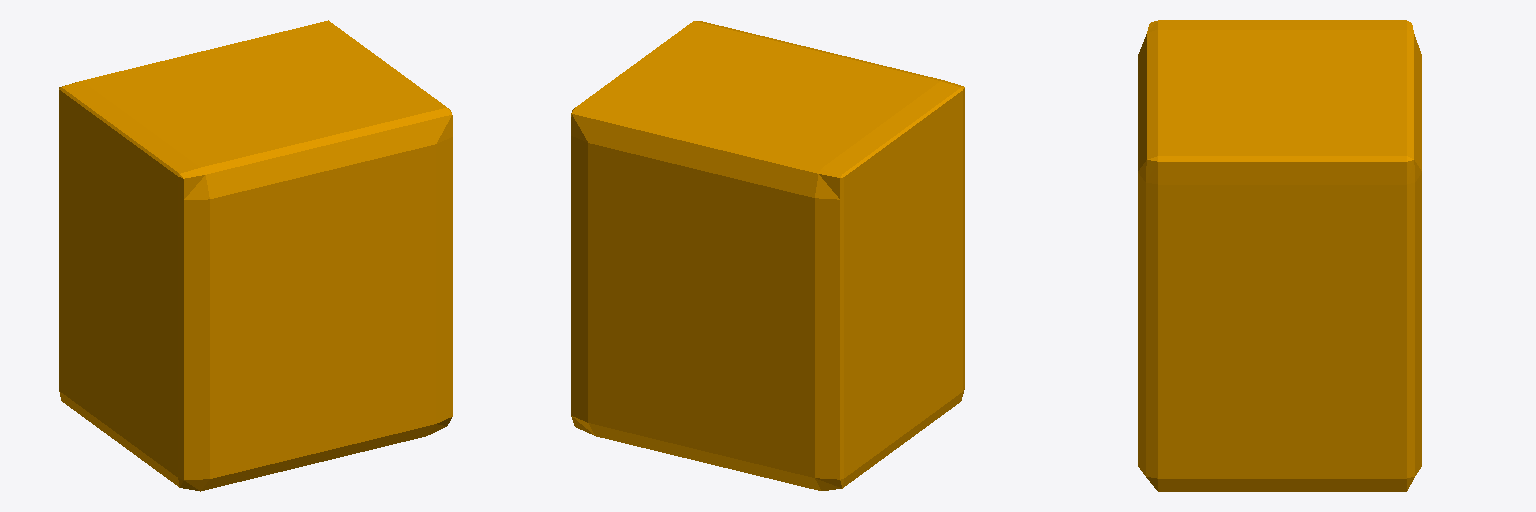
URDF robot description (cylinder_box_179):
<?xml version="1.0" encoding="utf-8"?>  <robot name="cylinder_box_179">   <link name="cylinder_box_179">     <visual>       <geometry>         <mesh filename="../meshes/box/box_179.stl" scale="1 1 1"/>       </geometry>     </visual>     <collision>       <geometry>         <mesh filename="../meshes/box/box_179.stl" scale="1 1 1"/>       </geometry>     </collision>     <inertial>        <origin         xyz="0 0 0"         rpy="0 0 0" />       <mass value="0.2804552188084841"/>       <origin rpy="0 0 0" xyz="0 0 0"/>       <inertia ixx="0.00020441342816512794" ixy="1.6532040127471677e-08" ixz="2.9288900794293976e-08" iyy="0.00023186104068791125" iyz="3.571837436176359e-08" izz="0.00017560084158696135"/>     </inertial>   </link>  </robot>

--- Render facts (derived) ---
The picture shows the robot from 3 angles, left to right: view 1: azimuth 30°, elevation 25°; view 2: azimuth 150°, elevation 25°; view 3: azimuth 270°, elevation 25°; orthographic projection.
Model cylinder_box_179 with 1 links and 0 joints (none), rooted at cylinder_box_179, posed all joints at 0.
Visible links, largest first — view 1: cylinder_box_179; view 2: cylinder_box_179; view 3: cylinder_box_179.
Boxes of the visible links, box(x1,y1,x2,y2) form: cylinder_box_179: box(59, 20, 452, 491); cylinder_box_179: box(571, 21, 964, 490); cylinder_box_179: box(1138, 20, 1421, 491).
Size in the robot's own frame: 0.0664 by 0.057 by 0.0753 metres.
1 mesh visuals loaded from 1 distinct referenced files (1 binary STL).